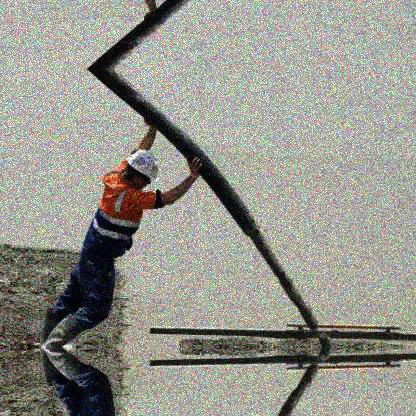helmet: (125, 148, 160, 191)
